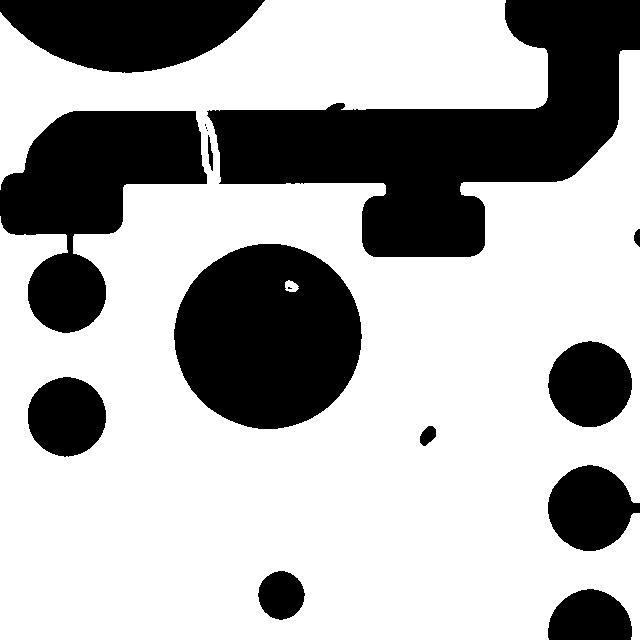copper: (410, 416, 445, 455)
open: (186, 98, 230, 195)
pin-hole: (275, 270, 308, 301)
short: (56, 215, 85, 270)
spur: (316, 93, 354, 122)
